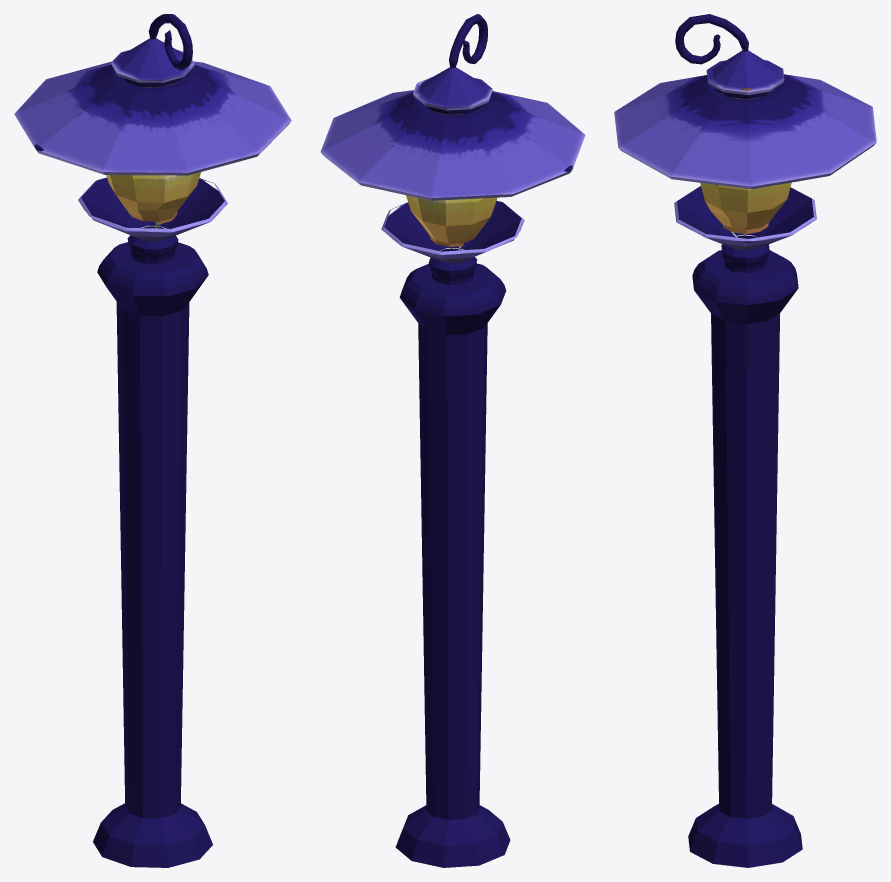
The model's file is largelamp.FBX.
The picture shows the model from 3 angles, left to right: view 1: azimuth 30°, elevation 25°; view 2: azimuth 150°, elevation 25°; view 3: azimuth 270°, elevation 25°; orthographic projection. The views are drawn at different scales.
Parts seen in each view (by area): view 1: Cylinder008; view 2: Cylinder008; view 3: Cylinder008.
Boxes of the visible parts, bbox=[...] form: Cylinder008: bbox=[14, 14, 291, 867]; Cylinder008: bbox=[320, 14, 585, 867]; Cylinder008: bbox=[614, 14, 876, 867].
Size of the model in its own units: 29.82 by 99.44 by 28.56.
Materials: 1 (1 with a texture image).
